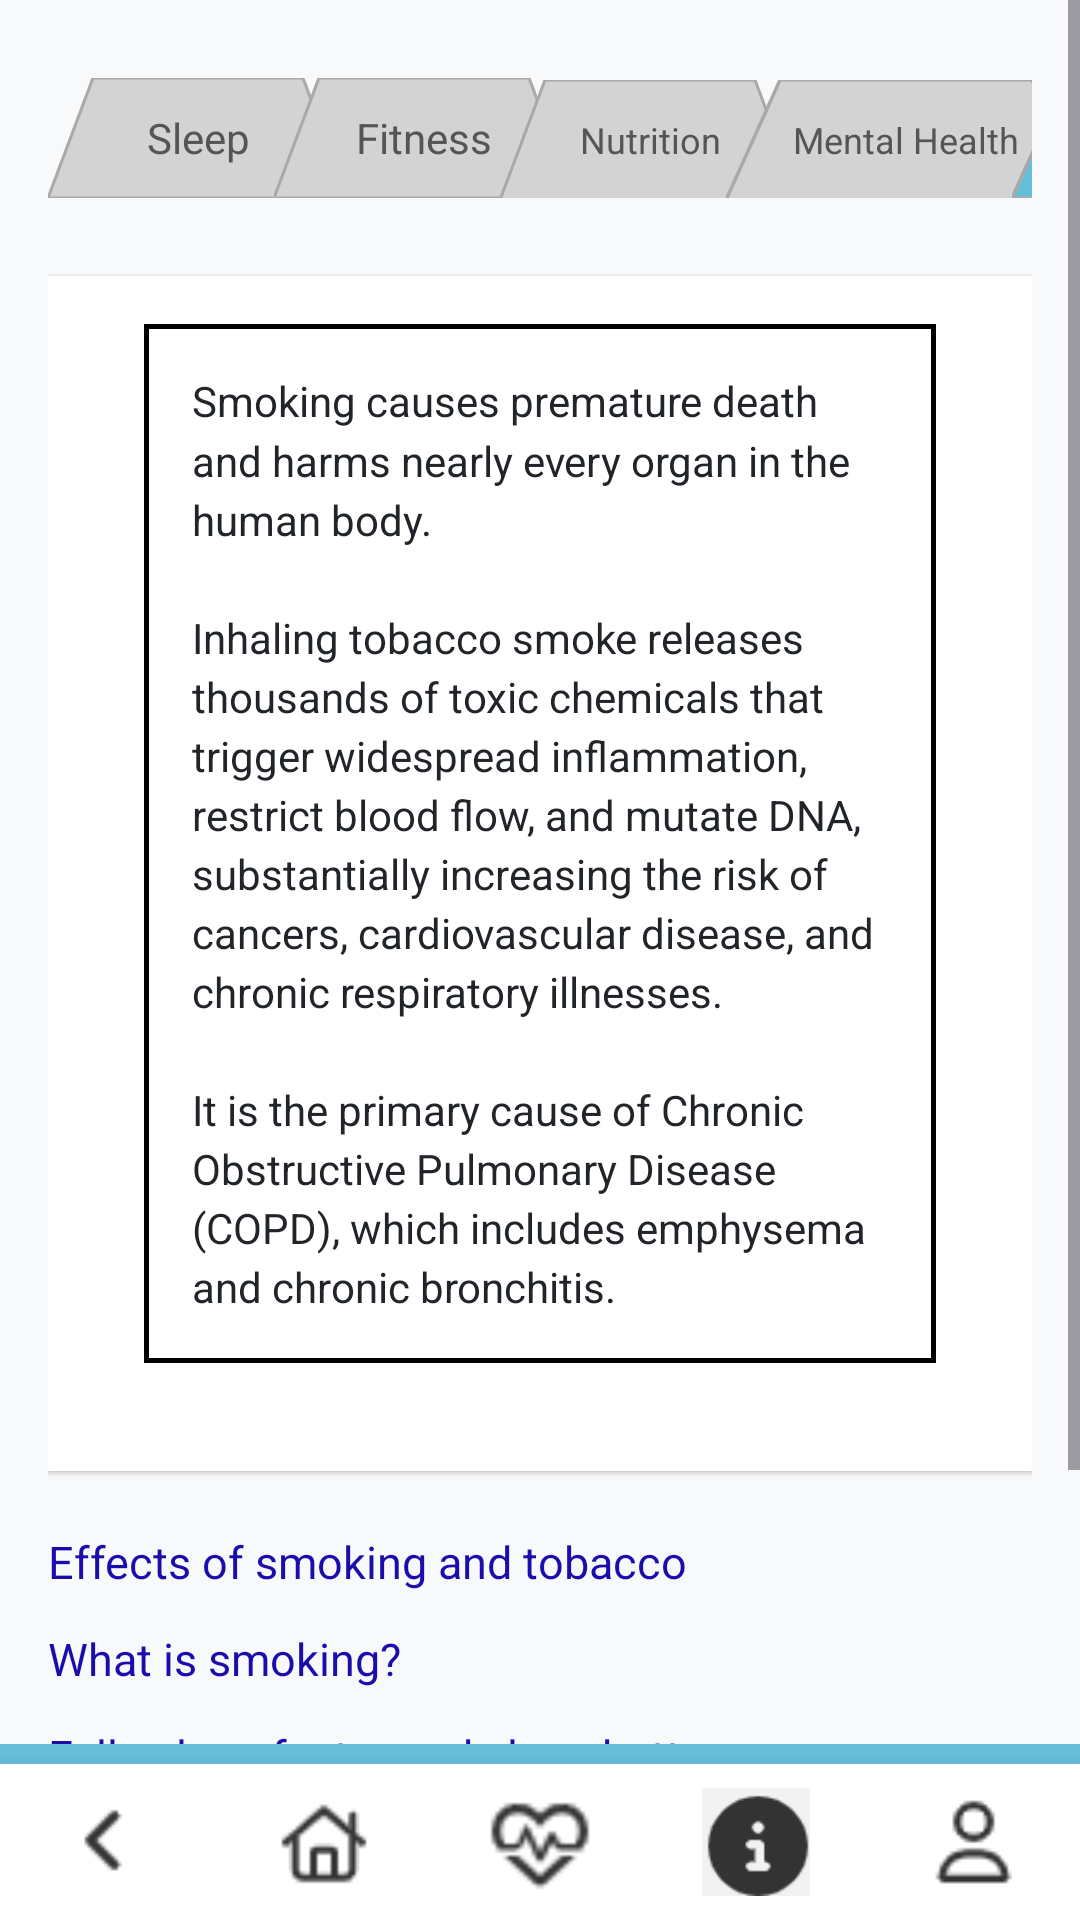

Icons on this 1080 × 1920 Android screen, each with the point to tap as (x,y):
Back: (103,1840)
Home: (324,1843)
Info: (758,1845)
Profile: (974,1842)
